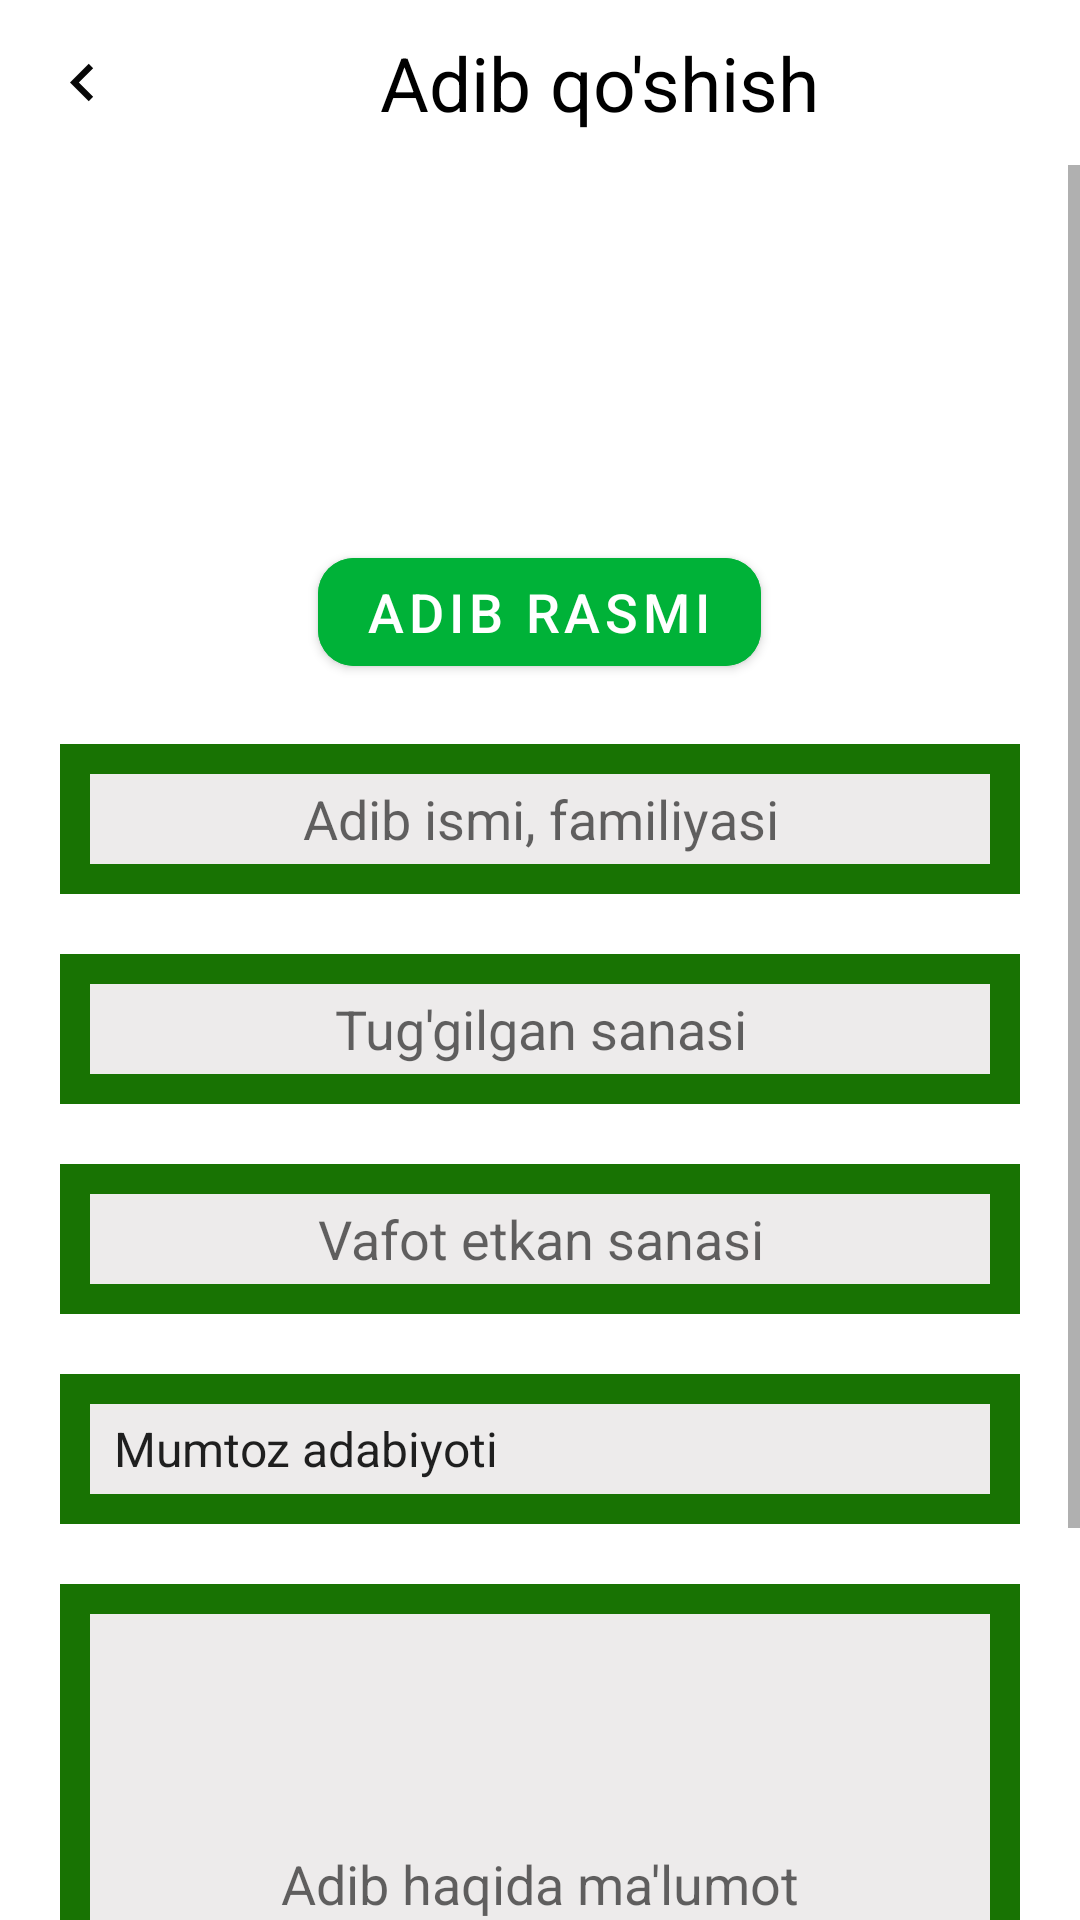

Icons on this 1080w x 1920h Android screen, each with the point to tap as (x,y):
arrow back: (81,82)
